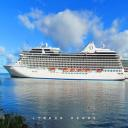cruises: (4, 41, 127, 83)
